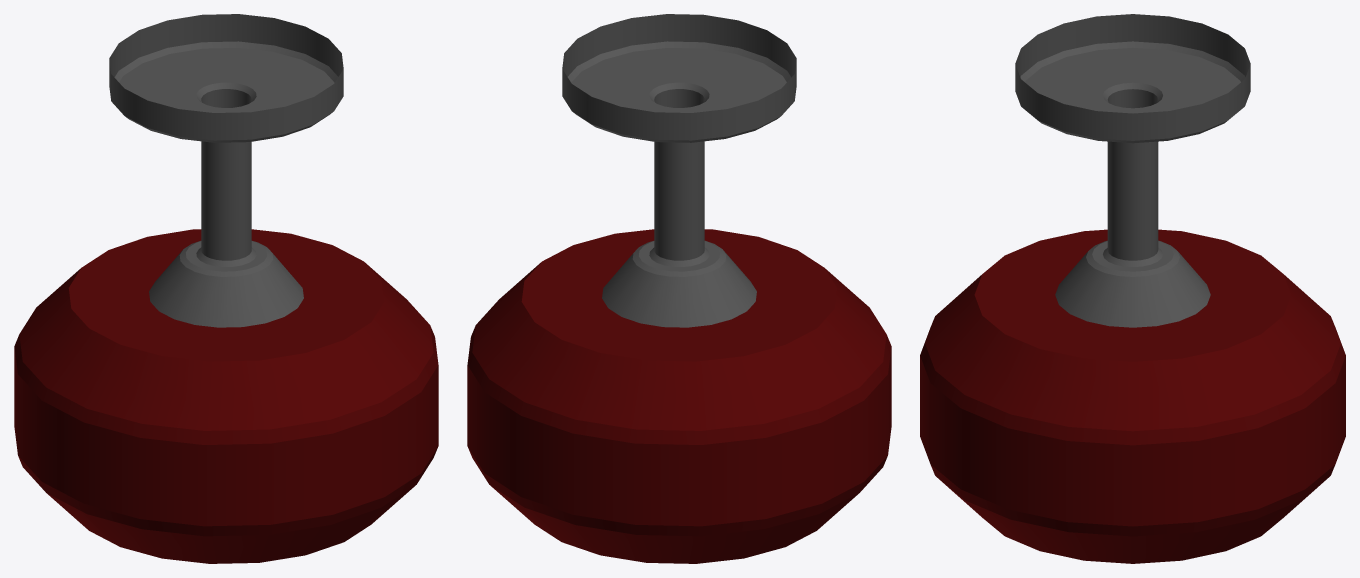
The model's file is lamp.fbx.
3 renders of one model, left to right at view 1: azimuth 30°, elevation 25°; view 2: azimuth 150°, elevation 25°; view 3: azimuth 270°, elevation 25°, orthographic.
Visible parts, largest first — view 1: pCylinder3; view 2: pCylinder3; view 3: pCylinder3.
Boxes of the visible parts, left/top/right/bottom form: pCylinder3: left=14, top=14, right=438, bottom=563; pCylinder3: left=467, top=14, right=891, bottom=563; pCylinder3: left=920, top=14, right=1345, bottom=563.
Bounding box in the file's own units: 55.14 × 61.9 × 55.14.
